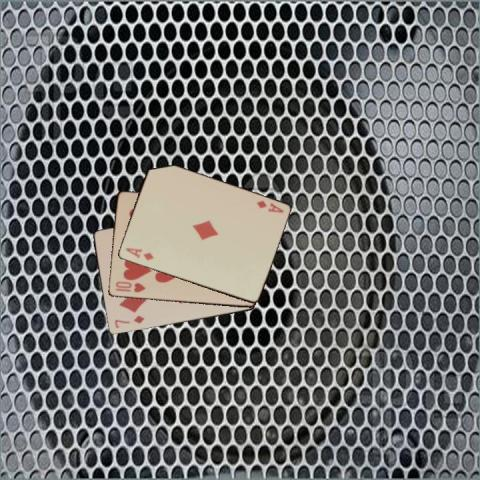10h: (112, 279, 147, 294)
7d: (112, 313, 146, 329)
Ad: (122, 245, 155, 262), (253, 197, 285, 214)
